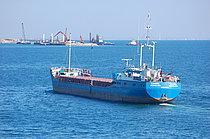Ship: (48, 7, 186, 106)
